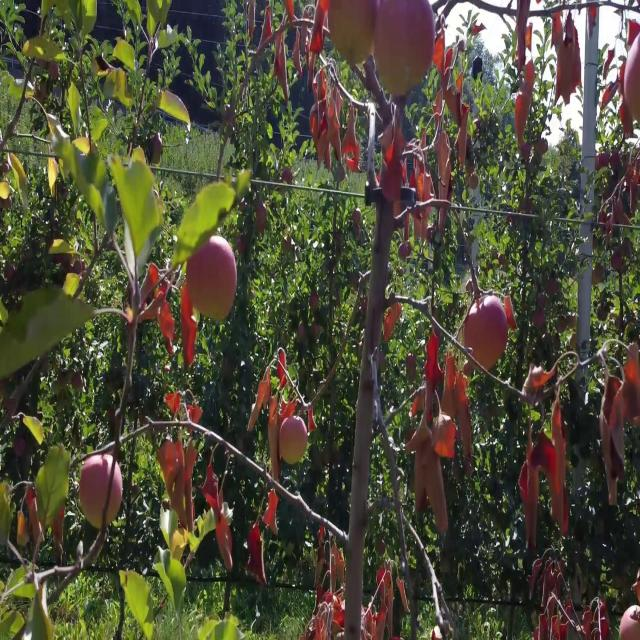apple: (184, 241, 238, 320), (84, 455, 124, 532), (468, 298, 509, 361), (80, 455, 113, 524), (184, 248, 212, 318), (404, 0, 436, 60), (280, 405, 309, 468), (376, 7, 406, 64), (100, 455, 124, 524), (332, 0, 360, 57), (296, 21, 324, 76), (353, 0, 376, 62), (484, 298, 508, 356), (292, 28, 316, 84), (200, 462, 224, 517), (172, 476, 195, 532), (160, 440, 184, 489), (556, 49, 583, 92), (348, 28, 375, 71), (408, 44, 435, 85), (208, 286, 236, 325), (380, 63, 411, 98), (464, 305, 486, 354), (532, 440, 558, 480), (108, 462, 124, 524), (440, 71, 464, 112), (548, 433, 568, 482), (160, 440, 183, 482), (380, 163, 403, 204), (384, 149, 405, 192), (520, 462, 540, 507), (388, 63, 412, 100), (408, 51, 431, 89), (204, 476, 224, 519), (432, 135, 452, 178), (436, 419, 456, 460), (380, 568, 400, 608), (436, 42, 460, 75), (444, 391, 471, 420), (436, 35, 455, 76), (456, 412, 474, 455), (540, 440, 560, 478), (264, 490, 280, 537), (424, 206, 443, 244), (272, 398, 285, 453), (460, 106, 481, 140), (160, 298, 177, 340), (88, 156, 109, 190), (624, 376, 640, 420), (628, 56, 640, 114), (180, 284, 198, 322), (376, 568, 395, 603), (360, 56, 378, 92), (412, 391, 436, 418), (404, 206, 423, 240), (292, 35, 308, 75), (625, 383, 640, 425), (408, 156, 425, 192), (476, 348, 500, 373), (16, 511, 31, 549), (52, 504, 67, 542), (620, 611, 640, 639), (528, 440, 546, 471), (384, 142, 403, 171), (144, 263, 160, 297), (312, 71, 328, 105), (184, 405, 204, 432), (88, 504, 107, 532), (440, 391, 458, 420), (532, 362, 550, 391), (556, 78, 574, 107), (32, 511, 46, 548), (48, 156, 60, 199), (424, 362, 443, 389), (12, 433, 31, 460), (516, 92, 532, 124), (76, 135, 92, 167), (316, 0, 331, 34), (344, 142, 361, 172), (436, 135, 451, 169), (552, 405, 567, 439), (164, 391, 181, 420), (148, 135, 164, 165), (456, 135, 471, 167), (420, 170, 434, 204), (604, 376, 621, 404), (444, 355, 458, 389), (620, 99, 633, 135), (300, 405, 316, 434), (584, 611, 600, 639), (312, 113, 327, 142), (88, 184, 103, 213), (184, 447, 199, 476), (624, 362, 640, 389), (613, 392, 626, 425), (260, 376, 272, 411), (552, 497, 568, 523), (552, 14, 564, 48), (504, 298, 516, 332), (416, 483, 430, 512), (456, 391, 471, 418), (448, 92, 463, 119), (628, 163, 640, 196), (396, 127, 410, 155), (388, 298, 404, 322), (440, 177, 454, 204), (436, 504, 449, 533), (456, 369, 470, 395), (24, 490, 39, 514), (568, 14, 579, 46), (256, 206, 268, 235), (468, 163, 480, 192), (124, 305, 137, 331), (524, 63, 536, 91), (284, 1, 298, 25), (276, 56, 288, 84), (380, 127, 395, 149), (628, 21, 640, 48), (604, 405, 618, 428), (516, 42, 527, 71), (612, 248, 625, 272), (440, 156, 452, 181), (600, 213, 613, 236), (429, 334, 440, 361), (440, 206, 451, 233), (616, 392, 625, 425), (616, 199, 627, 226), (408, 355, 418, 384), (588, 7, 599, 32), (48, 63, 61, 84), (236, 234, 248, 256), (604, 49, 616, 71), (384, 319, 395, 343), (604, 85, 616, 107), (560, 511, 571, 535), (532, 312, 547, 329), (72, 371, 84, 391), (400, 241, 412, 261), (464, 455, 475, 476), (548, 277, 559, 297), (516, 120, 527, 140), (412, 398, 423, 418), (0, 184, 11, 203), (596, 156, 609, 172), (612, 149, 621, 172), (520, 142, 532, 158), (396, 199, 405, 220), (312, 291, 320, 313), (536, 142, 548, 156), (592, 270, 604, 284), (388, 312, 396, 331), (424, 412, 434, 427), (620, 63, 626, 87), (300, 327, 308, 343), (284, 241, 292, 256), (540, 291, 547, 308), (312, 327, 321, 340), (624, 127, 633, 139)
